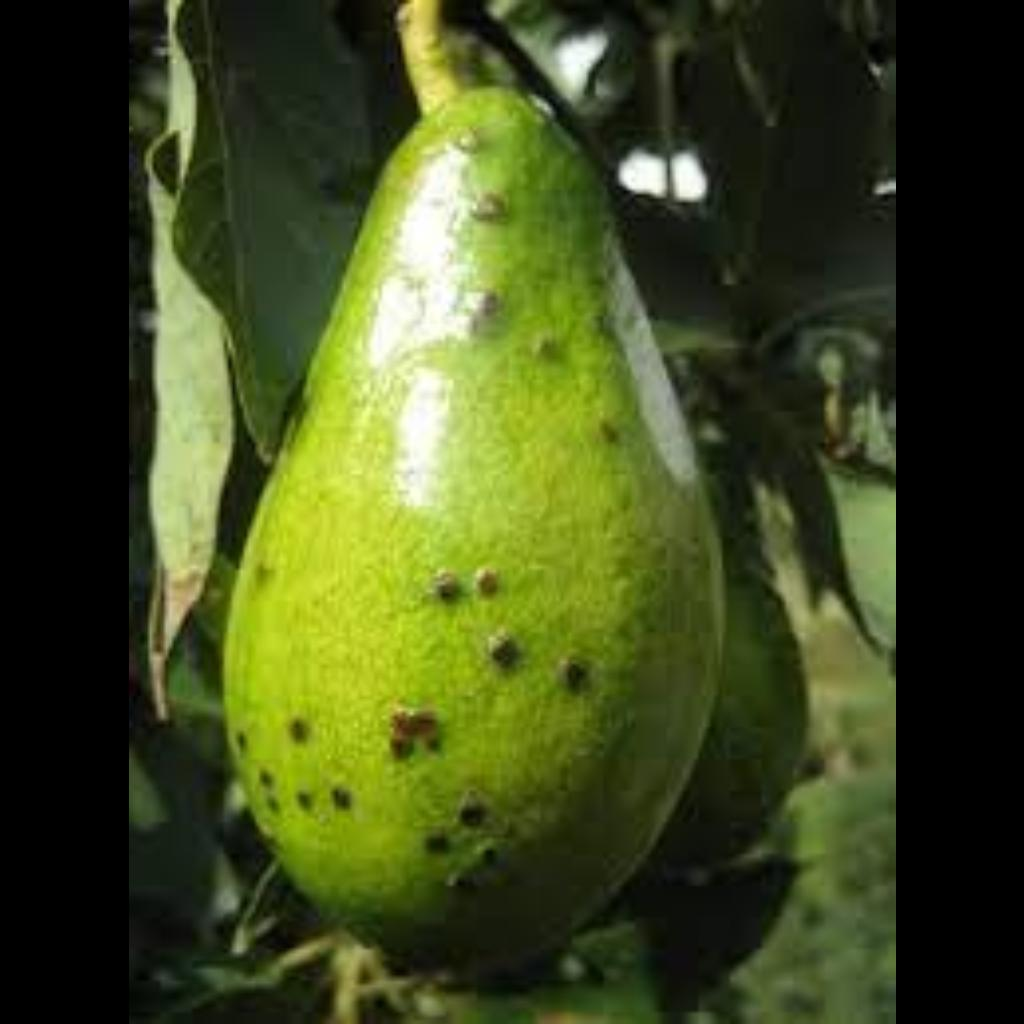cercospora_spot: (252, 202, 656, 874)
